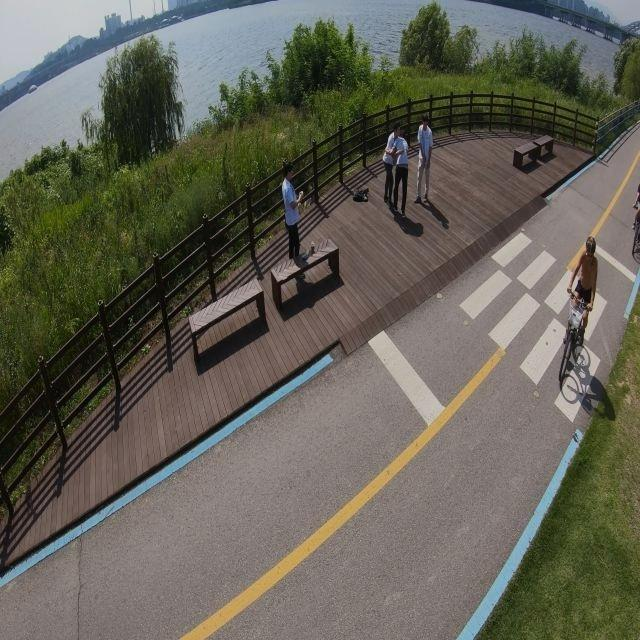fight: (382, 125, 411, 217)
non-fight: (564, 235, 597, 364), (282, 168, 303, 264), (415, 116, 432, 204)
